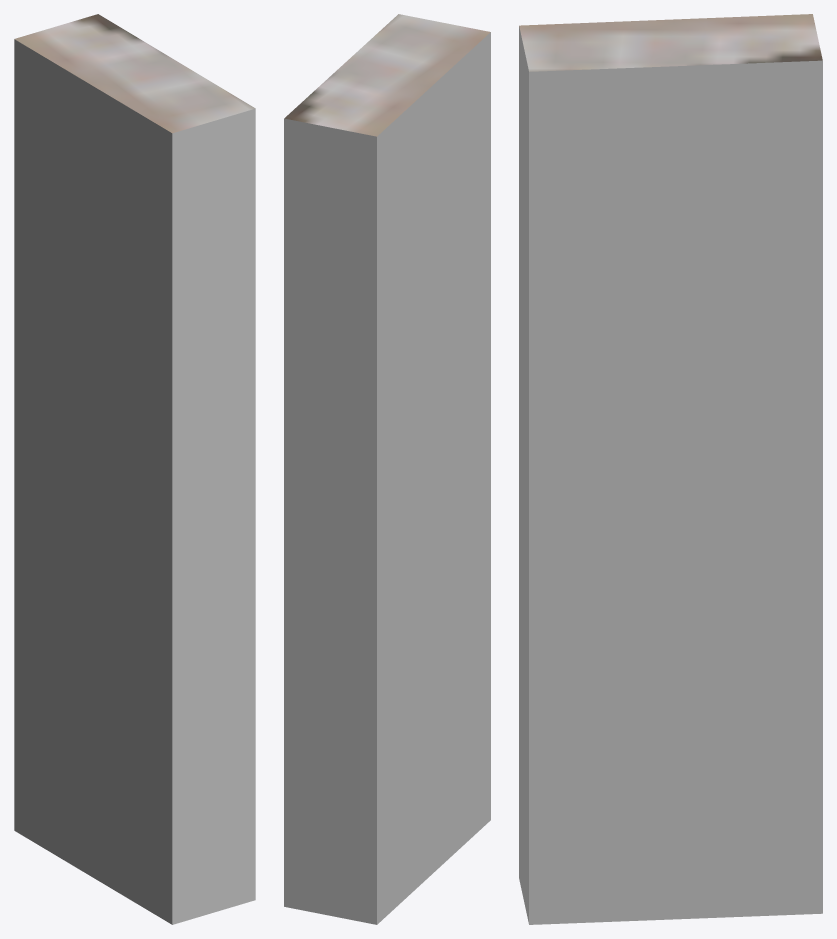
File: DEBW_0010007THWO.gltf
3 views of the same model, side by side, from view 1: azimuth 30°, elevation 25°; view 2: azimuth 150°, elevation 25°; view 3: azimuth 270°, elevation 25° (orthographic). The views are drawn at different scales.
Visible parts, largest first — view 1: Z_UP; view 2: Z_UP; view 3: Z_UP.
Boxes of the visible parts, box(x1,y1,x2,y2) form: Z_UP: box(14, 14, 255, 924); Z_UP: box(284, 14, 490, 924); Z_UP: box(519, 14, 822, 924).
Size of the model in its own units: 1.65 by 11.35 by 3.66.
2 materials, 1 textured.
